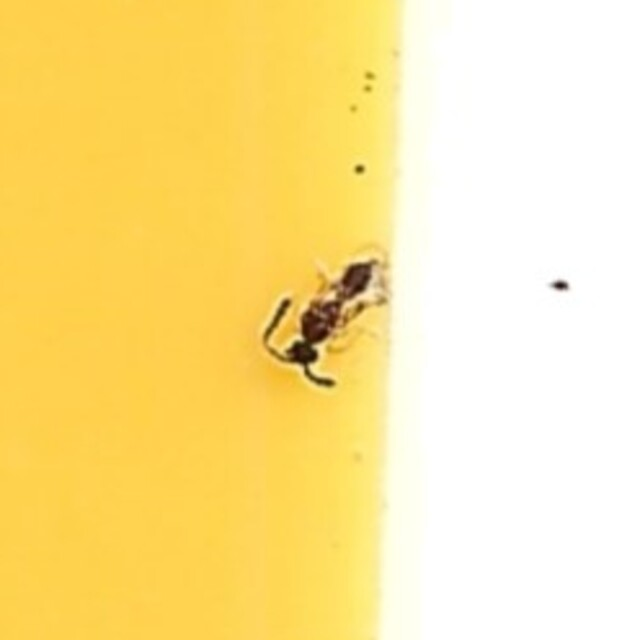Hymenoptera: (258, 250, 382, 390)
